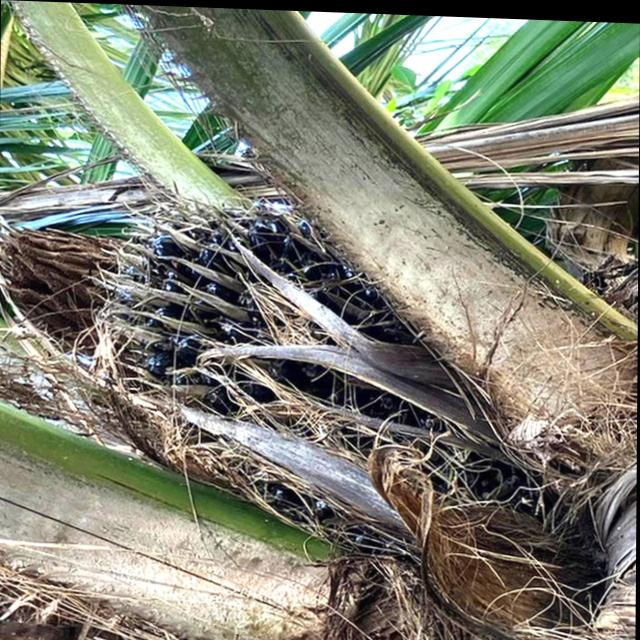unripe: (87, 185, 493, 563)
